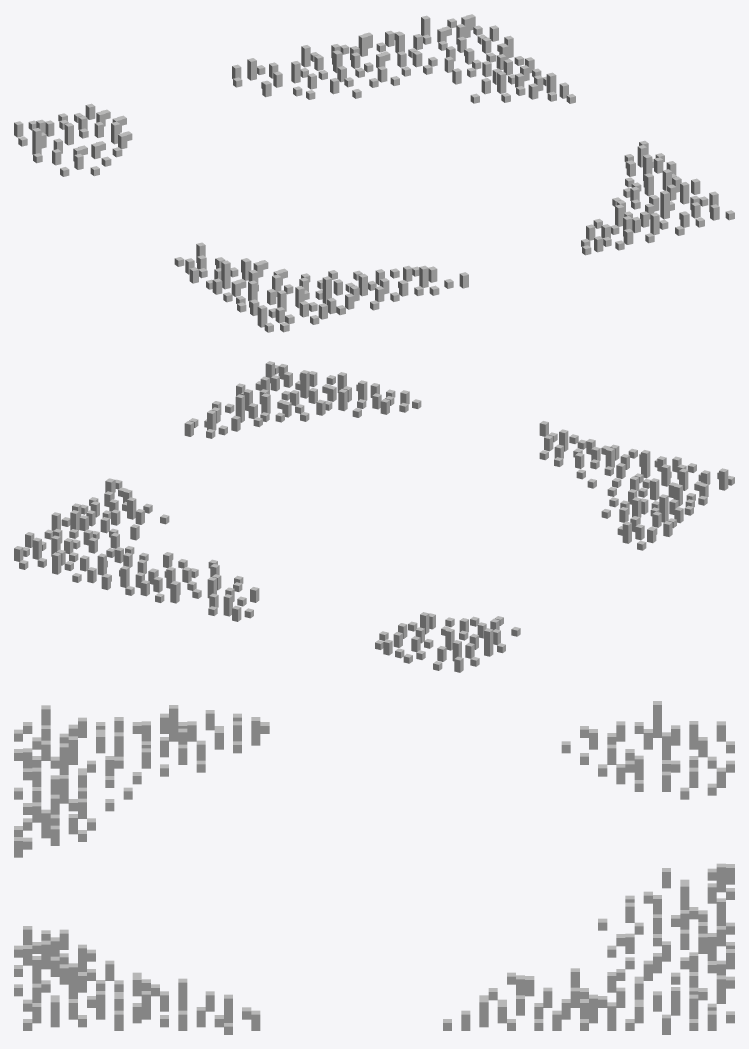
File: snow_3_overtile.glb
The picture shows the model from 3 angles, top to bottom: view 1: azimuth 30°, elevation 25°; view 2: azimuth 150°, elevation 25°; view 3: azimuth 270°, elevation 25°; orthographic projection. The views are drawn at different scales.
Visible parts, largest first — view 1: snow_3_overtile; view 2: snow_3_overtile; view 3: snow_3_overtile.
Part boxes in pixels (box(x1,y1,x2,y2)): snow_3_overtile: box(14, 14, 734, 332); snow_3_overtile: box(14, 361, 734, 672); snow_3_overtile: box(14, 701, 734, 1034).
Bounding box in the file's own units: 8 × 0.4 × 7.9.
Materials: 1 (1 with a texture image).
